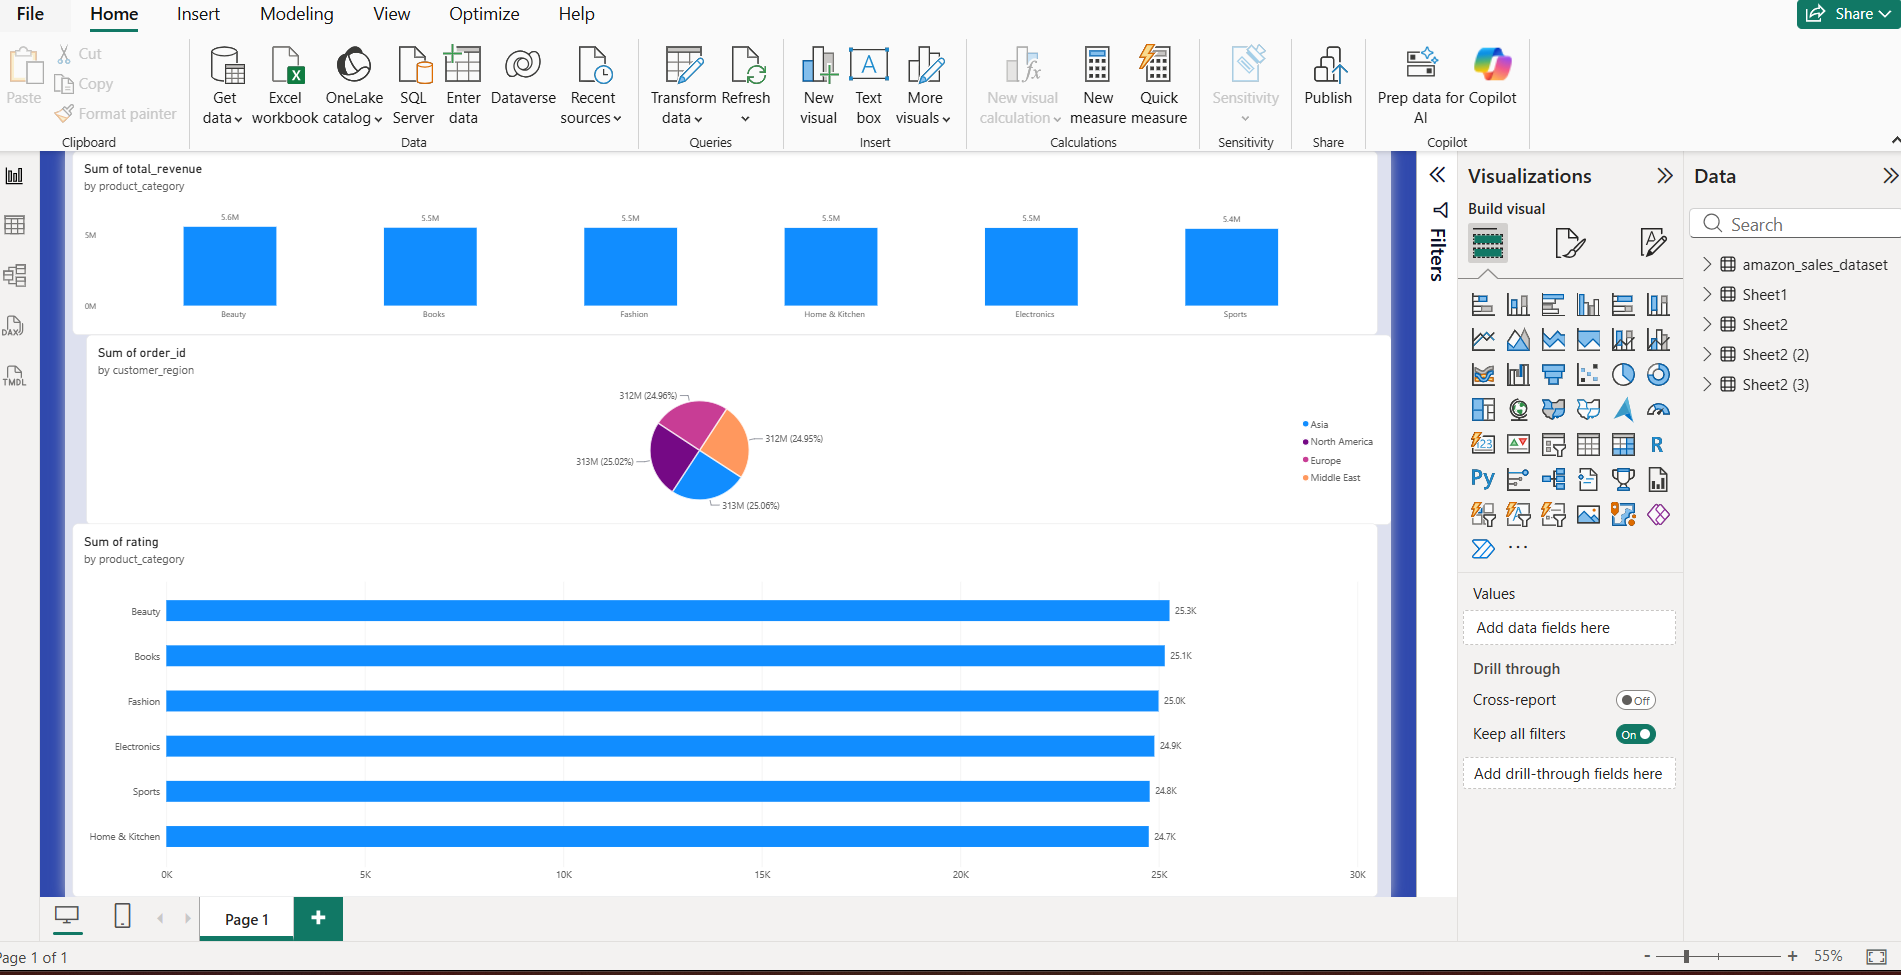

Layout of this report page (visuals, bound fields, positions):
{"tool":"powerbi","page":{"name":"Page 1","canvas":[1920,1080],"ordinal":0},"visuals":[{"type":"clusteredColumnChart","fields":{"Category":["amazon_sales_dataset.product_category"],"Y":["Sum(amazon_sales_dataset.total_revenue)"]},"box":[10.9,0,1889.3,266],"z":0},{"type":"pieChart","fields":{"Category":["amazon_sales_dataset.customer_region"],"Y":["Sum(amazon_sales_dataset.order_id)"]},"box":[30.8,266,1889.3,275.1],"z":1000},{"type":"clusteredBarChart","fields":{"Category":["amazon_sales_dataset.product_category"],"Y":["Sum(amazon_sales_dataset.rating)"]},"box":[10.9,539.3,1889.3,541.1],"z":2000}]}

Visuals, with their boxes on the page's 1920x1080 design canvas (x1, y1, x2, y2). These are canvas units, not pixel positions in the 1901x975 screenshot, which may show the page scaled, cropped or inside an application window:
clusteredColumnChart - amazon_sales_dataset.product_category x Sum(amazon_sales_dataset.total_revenue): bbox=(11, 0, 1900, 266)
pieChart - amazon_sales_dataset.customer_region x Sum(amazon_sales_dataset.order_id): bbox=(31, 266, 1920, 541)
clusteredBarChart - amazon_sales_dataset.product_category x Sum(amazon_sales_dataset.rating): bbox=(11, 539, 1900, 1080)
